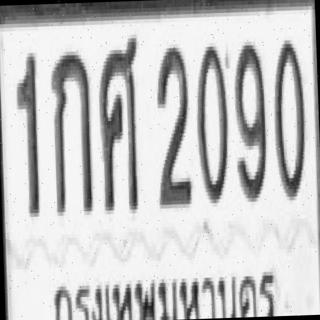A01: (49, 45, 93, 214)
A38: (97, 34, 143, 214)
N00: (193, 42, 231, 204), (271, 34, 307, 199)
N01: (14, 49, 41, 217)
N02: (153, 42, 192, 207)
N09: (232, 39, 268, 200)
